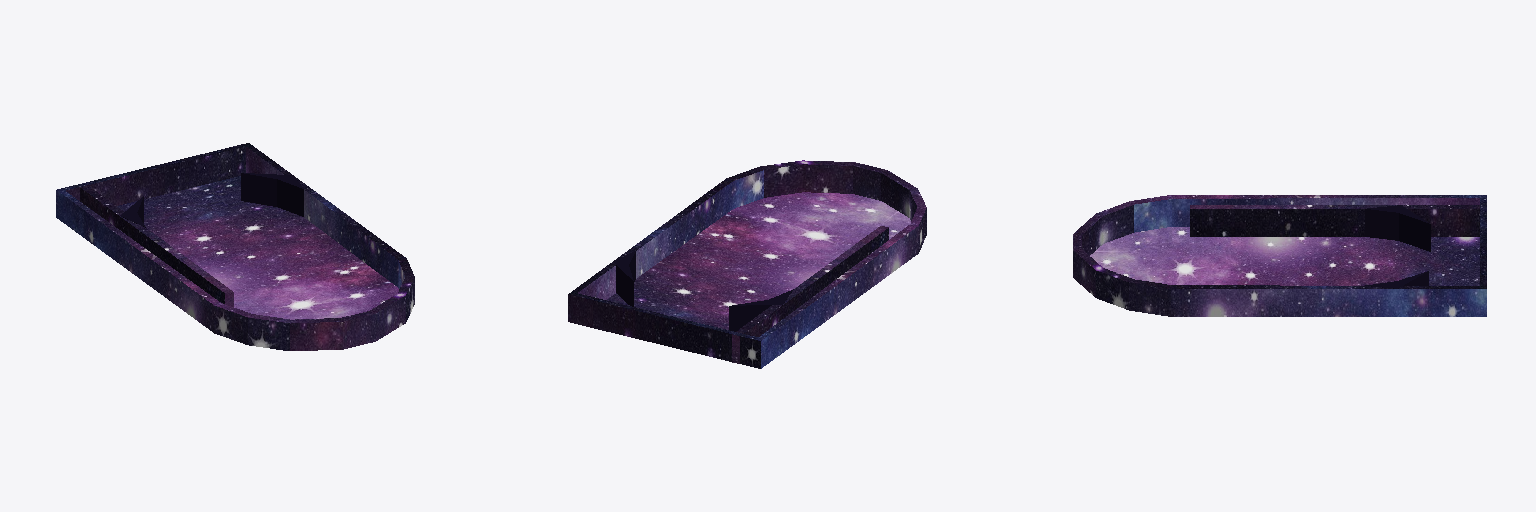
The picture shows the model from 3 angles: view 1: azimuth 30°, elevation 25°; view 2: azimuth 150°, elevation 25°; view 3: azimuth 270°, elevation 25°; orthographic projection.
Visible parts, largest first — view 1: Cube.001; view 2: Cube.001; view 3: Cube.001.
Part boxes in pixels (left/top/right/bottom): Cube.001: left=56, top=143, right=414, bottom=350; Cube.001: left=568, top=160, right=926, bottom=368; Cube.001: left=1073, top=195, right=1486, bottom=316.
Size of the model in its own units: 14.32 by 2.01 by 26.66.
Materials: 1 (1 with a texture image).